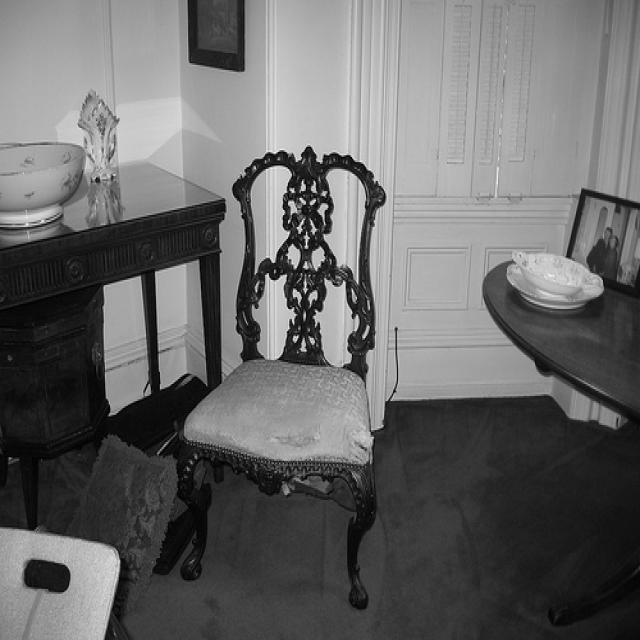chair: (177, 146, 388, 611)
